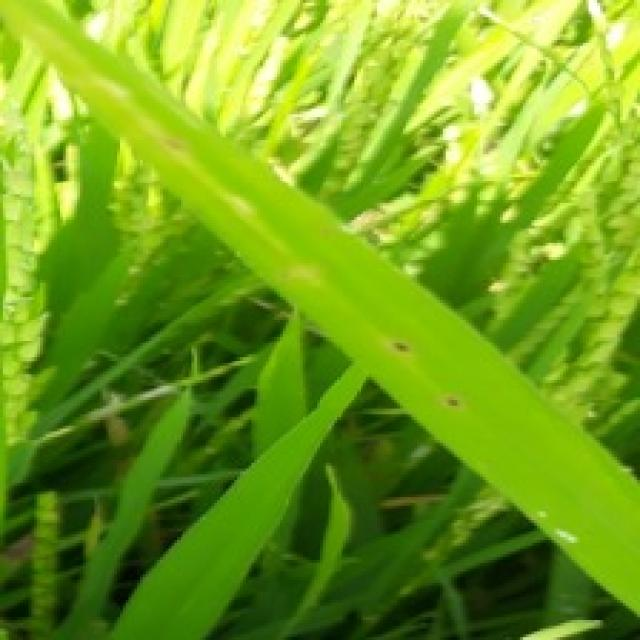Rice___Brown_Spot: (0, 0, 637, 620)
